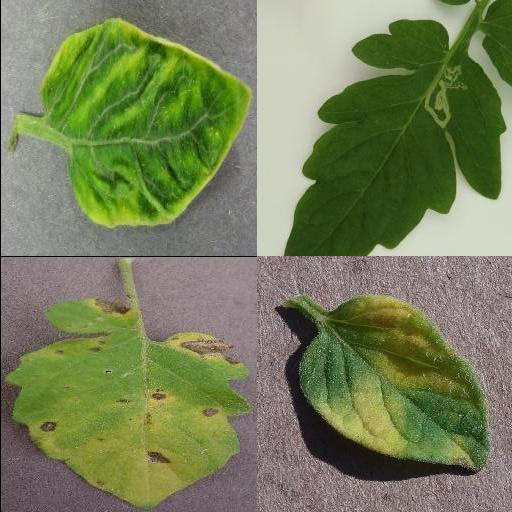Leaf Miner: (283, 16, 506, 256)
Leaf Mold: (299, 295, 491, 473)
Septoria: (4, 329, 249, 509)
Yellow Leaf Curl Virus: (37, 16, 251, 228)
